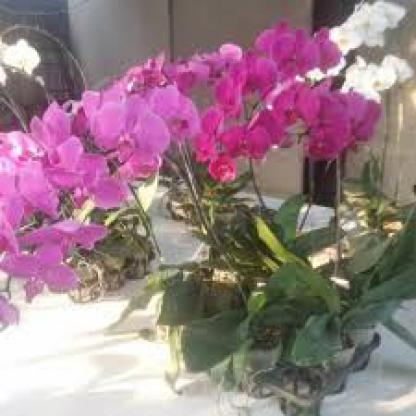ANGGREK: (12, 23, 404, 286)
